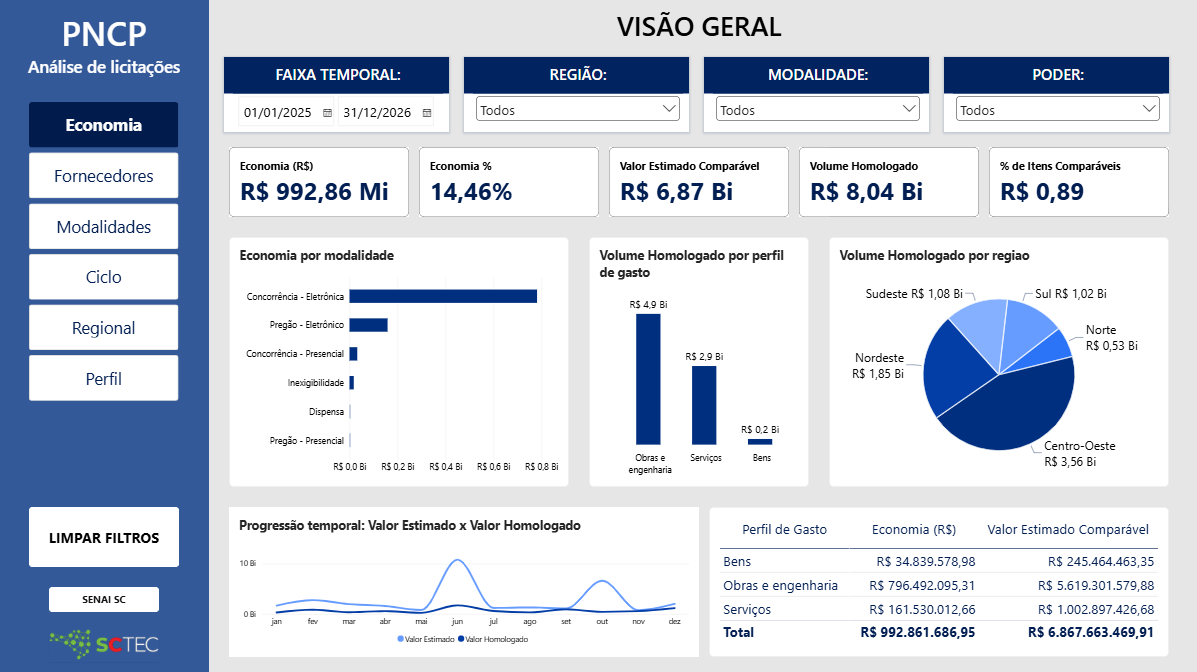

The dashboard page shown, as its layout file describes it:
{"tool":"powerbi","page":{"name":"Economia","canvas":[1920,1080],"ordinal":0},"visuals":[{"type":"slicer","title":"FAIXA TEMPORAL:","fields":{"Values":["dCalendario.Date"]},"box":[360,96,360,120],"z":0},{"type":"textbox","box":[0,-8,336,1088],"z":1000},{"type":"image","box":[80,1008,176,56],"z":2000},{"type":"textbox","box":[368,16,1504,64],"z":3000},{"type":"slicer","title":"REGIÃO:","fields":{"Values":["dim_localidade.regiao"]},"box":[744,96,360,120],"z":4000},{"type":"cardVisual","fields":{"Data":["_medidas.Economia (R$)"]},"box":[368,240,288,112],"z":5000},{"type":"slicer","title":"PODER:","fields":{"Values":["dim_orgao.poder"]},"box":[1512,96,360,120],"z":6000},{"type":"cardVisual","fields":{"Data":["_medidas.Volume Homologado"]},"box":[1280,240,288,112],"z":7000},{"type":"cardVisual","fields":{"Data":["_medidas.Valor Estimado Comparável"]},"box":[976,240,288,112],"z":8000},{"type":"cardVisual","fields":{"Data":["_medidas.Economia %"]},"box":[672,240,288,112],"z":9000},{"type":"cardVisual","fields":{"Data":["_medidas.% de Itens Comparáveis"]},"box":[1584,240,288,112],"z":10000},{"type":"clusteredColumnChart","title":"Volume Homologado por perfil de gasto","fields":{"Category":["fato_item_contratado.perfil_gasto"],"Y":["_medidas.Volume Homologado"]},"box":[944,384,352,400],"z":11000},{"type":"barChart","title":"Economia por modalidade","fields":{"Category":["dim_modalidade.nome_modalidade"],"Y":["_medidas.Economia (R$)"]},"box":[368,384,544,400],"z":12000},{"type":"tableEx","fields":{"Values":["fato_item_contratado.perfil_gasto","_medidas.Economia (R$)","_medidas.Valor Estimado Comparável"]},"box":[1136,816,736,240],"z":13000},{"type":"pieChart","fields":{"Category":["dim_localidade.regiao"],"Y":["_medidas.Volume Homologado"]},"box":[1328,384,544,400],"z":14000},{"type":"lineChart","title":"Progressão temporal: Valor Estimado x Valor Homologado","fields":{"Category":["dCalendario.NomeMes"],"Y":["Sum(fato_item_contratado.valor_total_estimado)","Sum(fato_item_contratado.valor_total_homologado)"]},"box":[368,816,752,240],"z":15000},{"type":"slicer","title":"MODALIDADE:","fields":{"Values":["dim_modalidade.nome_modalidade"]},"box":[1128,96,360,120],"z":16000},{"type":"pageNavigator","box":[48,168,240,480],"z":17000},{"type":"actionButton","box":[48,816,240,96],"z":18000},{"type":"actionButton","box":[80,944,176,40],"z":19000}]}

Visuals, with their boxes in screenshot pixels (x1, y1, x2, y2), scaled from the page's 1920x1080 canvas onto the 1197x672 screenshot:
"FAIXA TEMPORAL:" slicer: (224,60,449,134)
textbox: (0,0,209,671)
image: (50,627,160,662)
textbox: (229,10,1167,50)
"REGIÃO:" slicer: (464,60,688,134)
cardVisual - _medidas.Economia (R$): (229,149,409,219)
"PODER:" slicer: (943,60,1167,134)
cardVisual - _medidas.Volume Homologado: (798,149,978,219)
cardVisual - _medidas.Valor Estimado Comparável: (608,149,788,219)
cardVisual - _medidas.Economia %: (419,149,598,219)
cardVisual - _medidas.% de Itens Comparáveis: (988,149,1167,219)
"Volume Homologado por perfil de gasto" clusteredColumnChart: (589,239,808,488)
"Economia por modalidade" barChart: (229,239,569,488)
tableEx - fato_item_contratado.perfil_gasto x _medidas.Economia (R$): (708,508,1167,657)
pieChart - dim_localidade.regiao x _medidas.Volume Homologado: (828,239,1167,488)
"Progressão temporal: Valor Estimado x Valor Homologado" lineChart: (229,508,698,657)
"MODALIDADE:" slicer: (703,60,928,134)
pageNavigator: (30,105,180,403)
actionButton: (30,508,180,567)
actionButton: (50,587,160,612)
